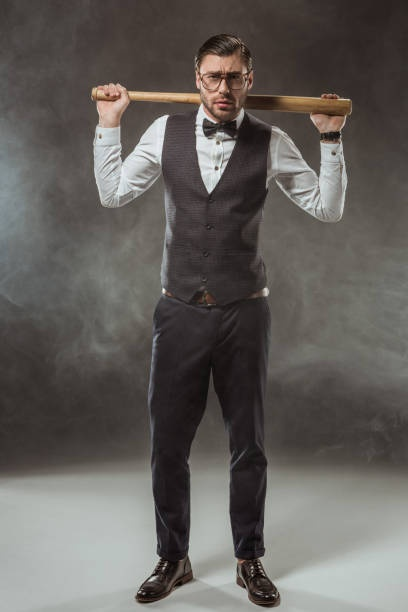bita: (86, 82, 358, 118)
